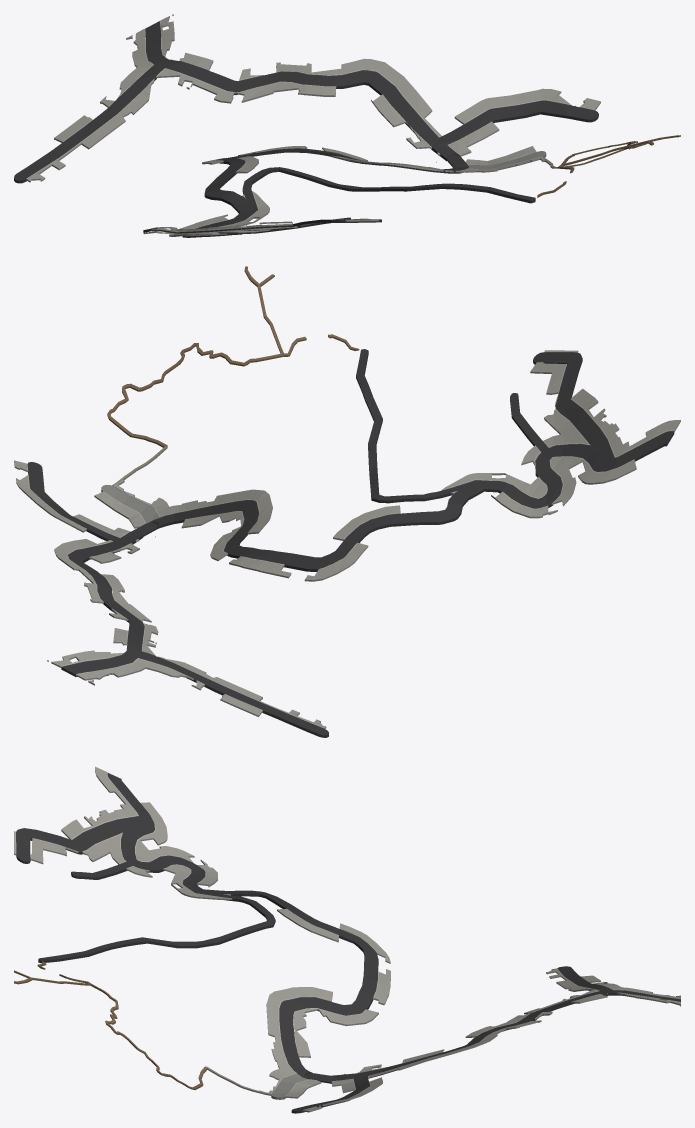
3 views of the same model, one above another, from view 1: azimuth 30°, elevation 25°; view 2: azimuth 150°, elevation 25°; view 3: azimuth 270°, elevation 25° (orthographic). The views are drawn at different scales.
Bounding box in the file's own units: 265 × 76.95 × 291.
